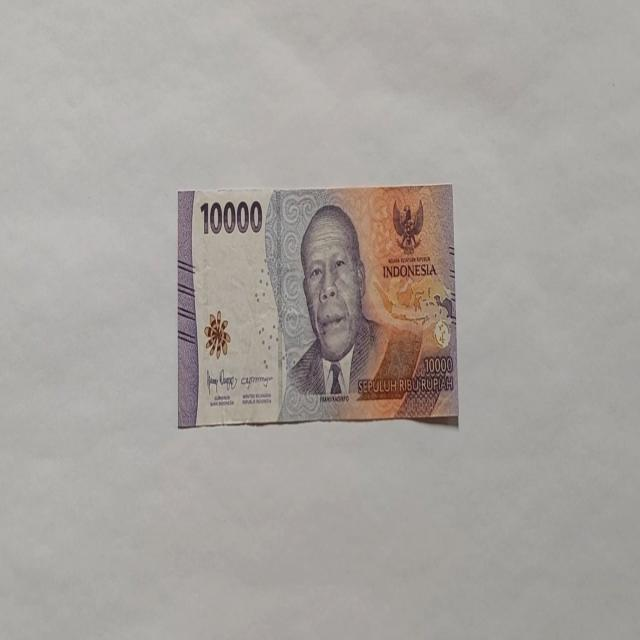sepuluh ribu rupiah: (176, 182, 458, 428), (276, 202, 420, 422)
